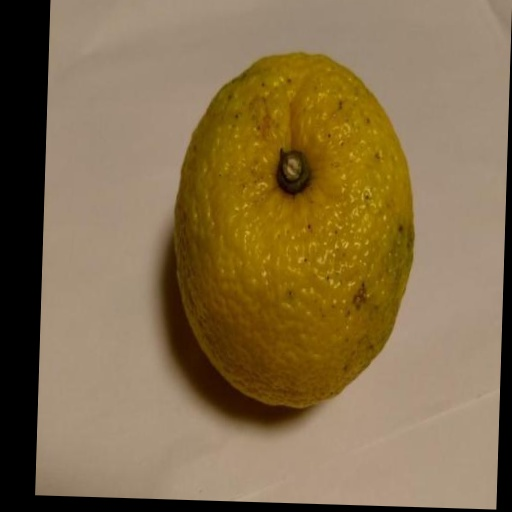fruit: (175, 53, 414, 407)
